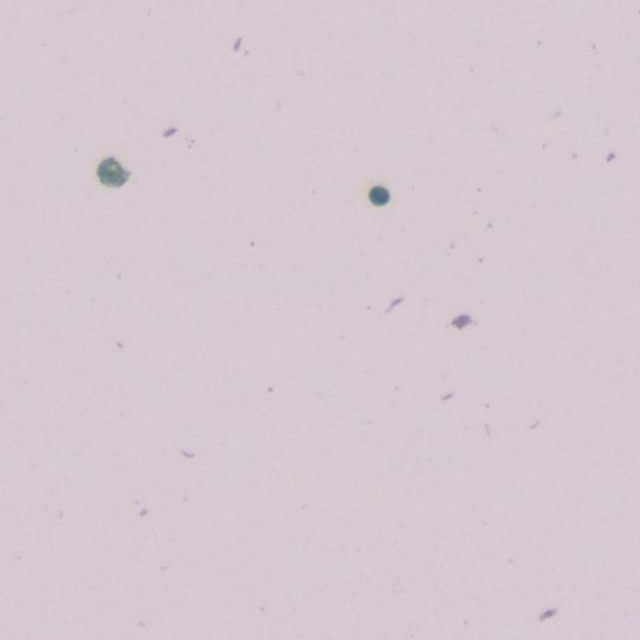non_viable: (98, 157, 129, 187), (368, 187, 389, 206)
